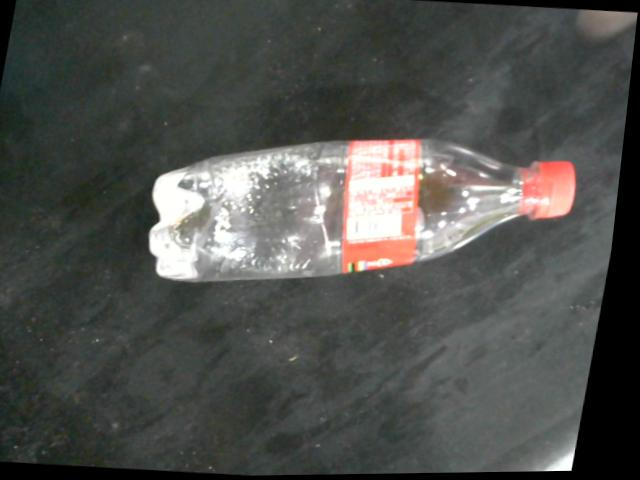bottle: (153, 139, 580, 283)
